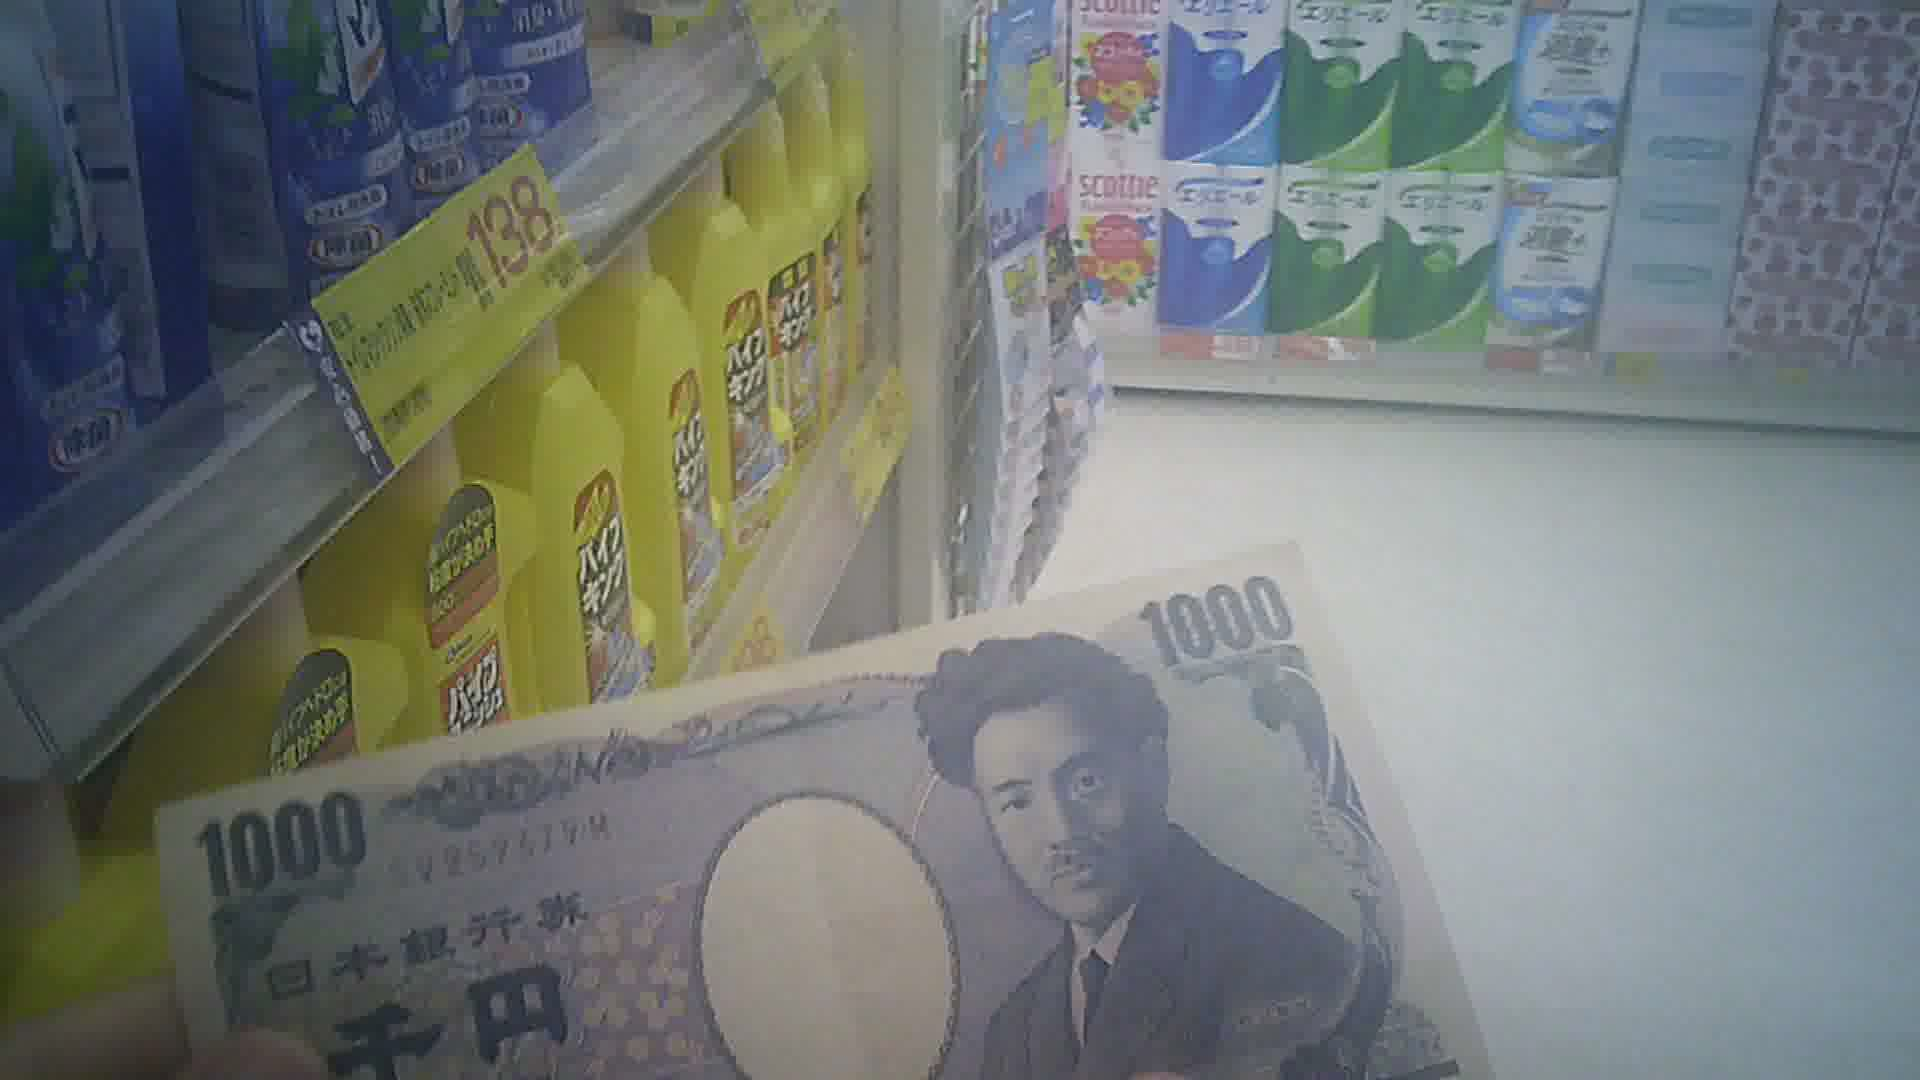1,000 Yen: (161, 551, 1473, 1079)
